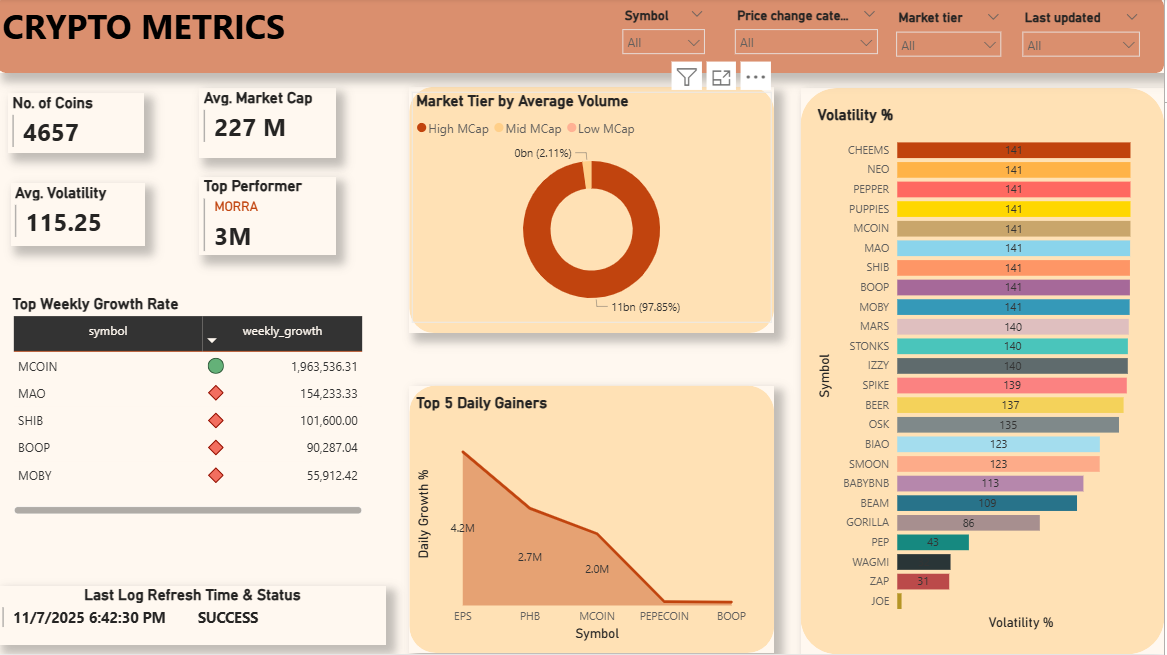

This screenshot's page, from the dashboard's own definition file:
{"tool":"powerbi","page":{"name":"Page 1","canvas":[1280,720],"ordinal":0},"visuals":[{"type":"shape","box":[881,98.8,399.3,621.6],"z":0},{"type":"shape","box":[451.7,97.7,400.7,270.3],"z":1000},{"type":"shape","box":[0,0,1280,82.3],"z":2000},{"type":"multiRowCard","title":"No. of Coins","fields":{"Values":["vw_crypto_summary.total_coins"]},"box":[11,104.3,149.6,65.9],"z":3000},{"type":"shape","box":[451.7,425.7,400.7,293.7],"z":4000},{"type":"multiRowCard","title":"Avg. Market Cap","fields":{"Values":["vw_crypto_summary.avg_market_cap"]},"box":[220.9,98.8,149.6,76.8],"z":5000},{"type":"multiRowCard","title":"Avg. Volatility","fields":{"Values":["vw_crypto_volatility.avg_volatility"]},"box":[13.7,203.1,146.8,70],"z":6000},{"type":"donutChart","title":"Market Tier by Average Volume","fields":{"Category":["vw_volume_by_tier.market_tier"],"Y":["Sum(vw_volume_by_tier.avg_daily_volume)"]},"box":[454.5,103.2,395.2,253.9],"z":7000},{"type":"multiRowCard","title":"Top Performer","fields":{"Values":["vw_top_performers.symbol","Sum(vw_top_performers.percent_change_24h)"]},"box":[220.9,196.2,149.6,85.1],"z":8000},{"type":"barChart","title":"Volatility %","fields":{"Category":["vw_volatility.symbol"],"Y":["Sum(vw_volatility.volatility_percent)"],"Series":["vw_volatility.symbol"]},"box":[894.7,118,369.1,580.4],"z":9000},{"type":"stackedAreaChart","title":"Top 5 Daily Gainers","fields":{"Category":["vw_top_daily_gainers.symbol","vw_top_daily_gainers.price_date.Variation.Date Hierarchy.Day"],"Y":["Sum(vw_top_daily_gainers.daily_growth_percent)"]},"box":[454.5,433.9,385.6,277.2],"z":10000},{"type":"tableEx","title":"Top Weekly Growth Rate","fields":{"Values":["vw_top_growth_week.symbol","vw_top_growth_week.weekly_growth"]},"box":[11,325.2,393.8,247],"z":11000},{"type":"slicer","fields":{"Values":["vw_crypto_summary.symbol"]},"box":[675.1,5.5,111.1,70],"z":12000},{"type":"slicer","fields":{"Values":["vw_volume_by_tier.market_tier"]},"box":[975.6,8.2,135.8,67.2],"z":13000},{"type":"slicer","fields":{"Values":["vw_crypto_summary.last_updated"]},"box":[1114.2,8.2,149.6,70],"z":14000},{"type":"slicer","fields":{"Values":["vw_crypto_summary.price_change_category"]},"box":[798.6,5.5,177,70],"z":15000},{"type":"textbox","box":[0,0,658.7,82.3],"z":16000},{"type":"multiRowCard","title":"Last Log Refresh Time & Status","fields":{"Values":["Min(Query1.RunDateTime)","Query1.Status"]},"box":[0,644.9,426.8,65.9],"z":17000}]}

Visuals, with their boxes in screenshot pixels (x1, y1, x2, y2), scaled from the page's 1280x720 canvas onto the 1167x655 screenshot:
shape: [left=803, top=90, right=1166, bottom=654]
shape: [left=412, top=89, right=777, bottom=335]
shape: [left=0, top=0, right=1166, bottom=75]
"No. of Coins" multiRowCard: [left=10, top=95, right=146, bottom=155]
shape: [left=412, top=387, right=777, bottom=654]
"Avg. Market Cap" multiRowCard: [left=201, top=90, right=338, bottom=160]
"Avg. Volatility" multiRowCard: [left=12, top=185, right=146, bottom=248]
"Market Tier by Average Volume" donutChart: [left=414, top=94, right=775, bottom=325]
"Top Performer" multiRowCard: [left=201, top=178, right=338, bottom=256]
"Volatility %" barChart: [left=816, top=107, right=1152, bottom=635]
"Top 5 Daily Gainers" stackedAreaChart: [left=414, top=395, right=766, bottom=647]
"Top Weekly Growth Rate" tableEx: [left=10, top=296, right=369, bottom=521]
slicer - vw_crypto_summary.symbol: [left=616, top=5, right=717, bottom=69]
slicer - vw_volume_by_tier.market_tier: [left=889, top=7, right=1013, bottom=69]
slicer - vw_crypto_summary.last_updated: [left=1016, top=7, right=1152, bottom=71]
slicer - vw_crypto_summary.price_change_category: [left=728, top=5, right=889, bottom=69]
textbox: [left=0, top=0, right=601, bottom=75]
"Last Log Refresh Time & Status" multiRowCard: [left=0, top=587, right=389, bottom=647]
